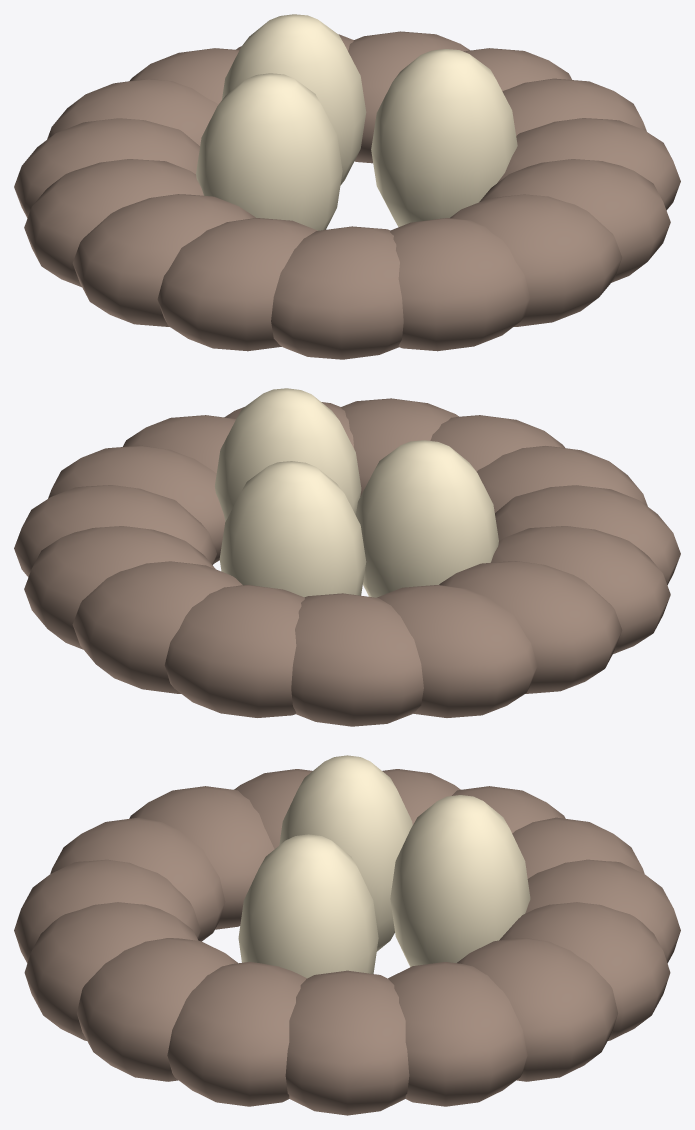
The model's file is lost-valley-dinosaurs-egg-nest-2acae0c1__1669.glb.
3 renders of one model, top to bottom at view 1: azimuth 30°, elevation 25°; view 2: azimuth 150°, elevation 25°; view 3: azimuth 270°, elevation 25°, orthographic. The views are drawn at different scales.
Visible parts, largest first — view 1: egg-nest; view 2: egg-nest; view 3: egg-nest.
Boxes of the visible parts, <box> form: egg-nest: <box>14,14,680,359</box>; egg-nest: <box>14,388,680,726</box>; egg-nest: <box>14,755,680,1115</box>.
Size of the model in its own units: 1.79 by 0.56 by 1.71.
